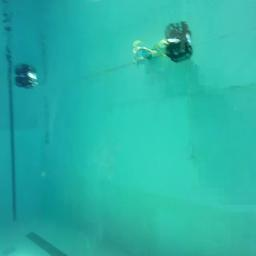Full: (165, 38, 192, 64), (14, 63, 38, 89)
